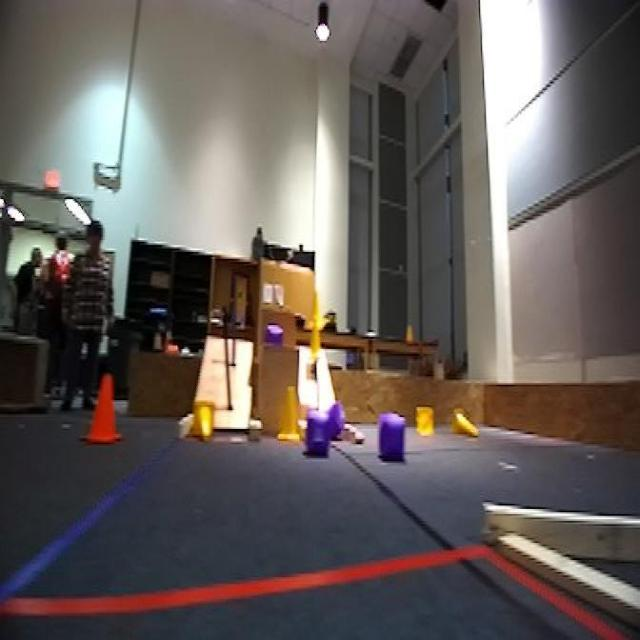frc_cone: (278, 383, 311, 449), (188, 400, 217, 444), (306, 316, 328, 362), (449, 408, 479, 438), (412, 402, 436, 437), (312, 288, 326, 334)
frc_cube: (299, 410, 329, 451), (377, 420, 407, 460), (327, 400, 341, 434), (263, 325, 284, 347)
